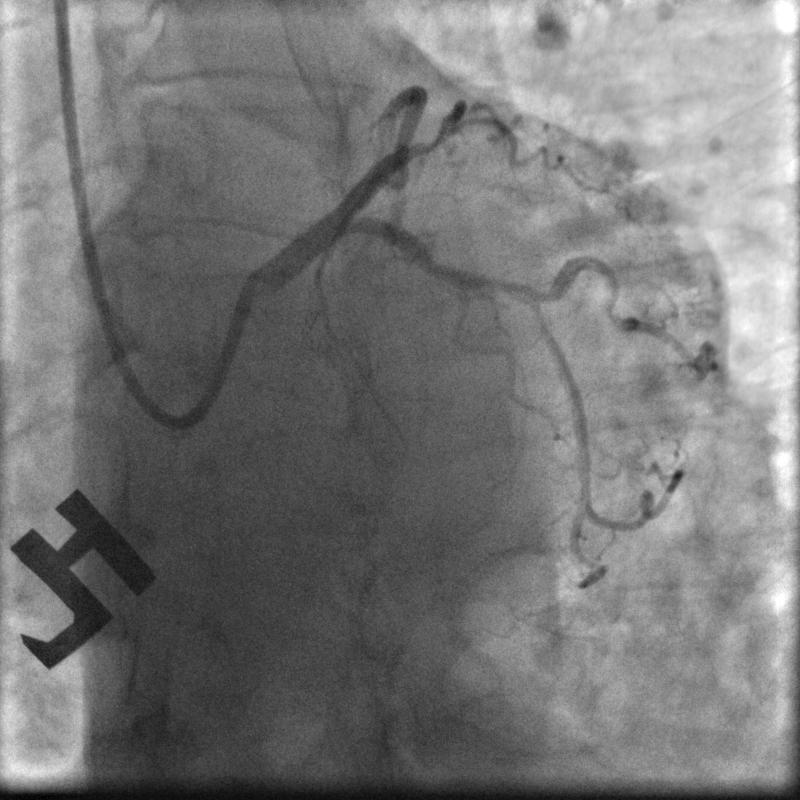Stenosis: (470, 266, 550, 318)
